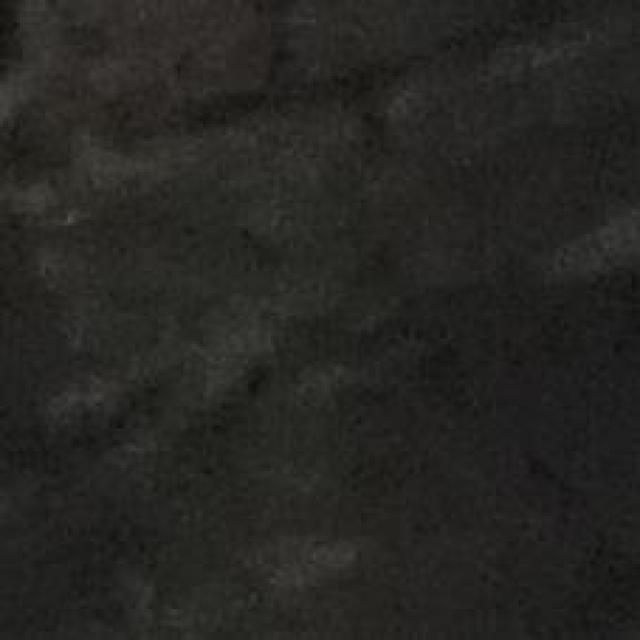Crack: (0, 0, 567, 443)
